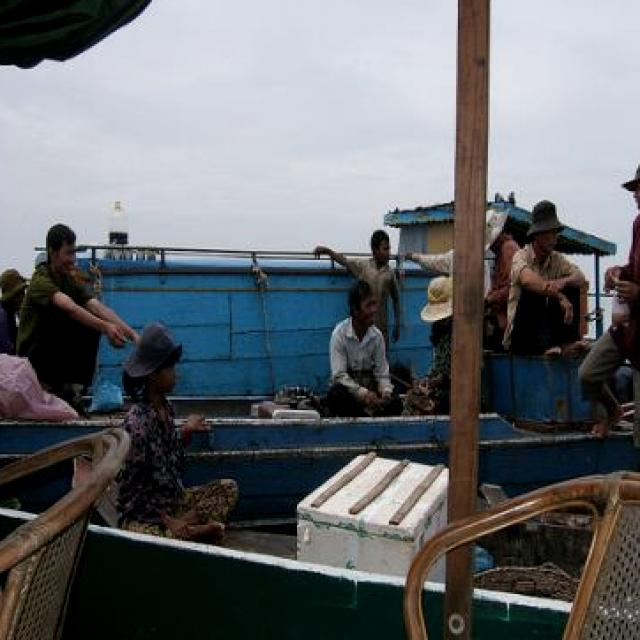ship: (0, 200, 640, 520)
